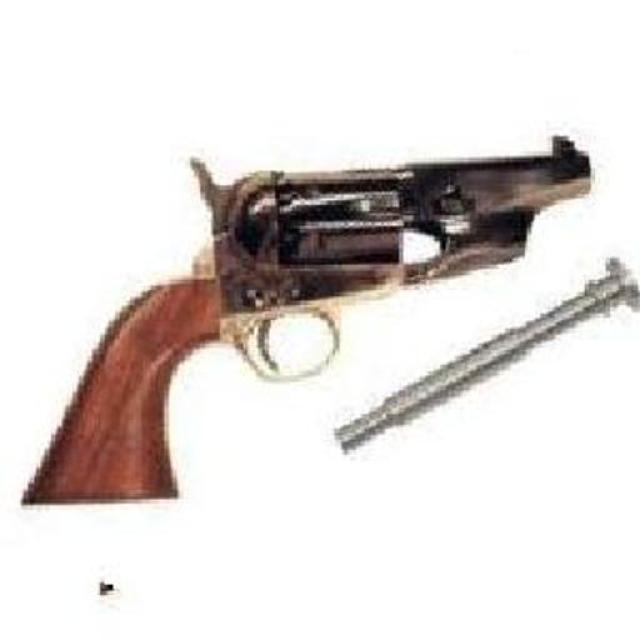pistol: (16, 131, 592, 505)
